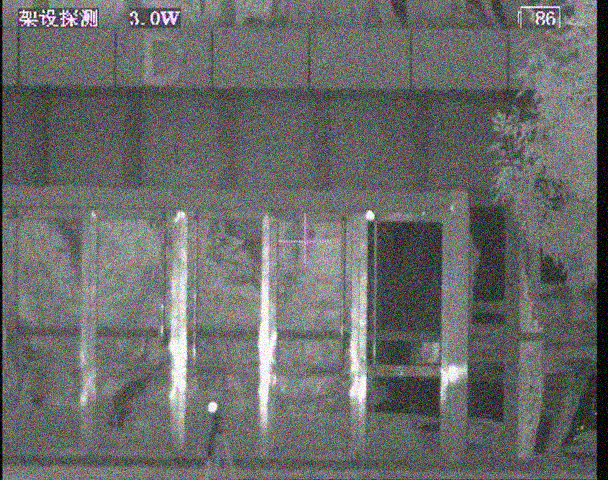my: (206, 401, 218, 414)
